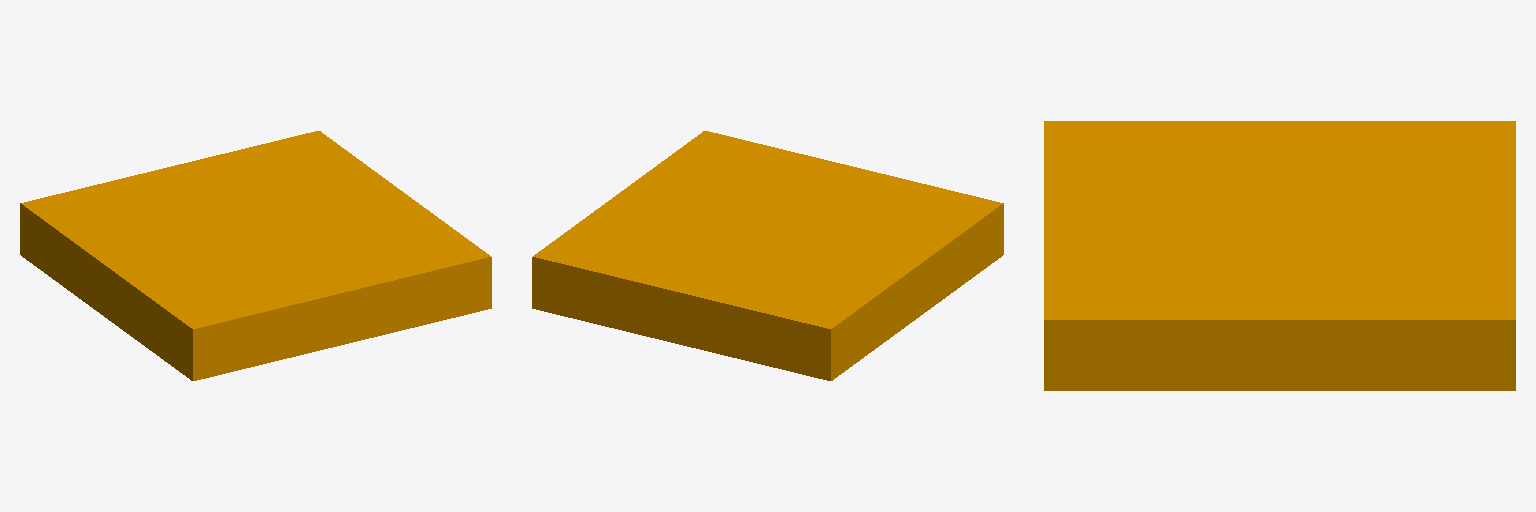
The robot description file, URDF, robot "artag2":
<robot name="artag2">
  <link name="artag2_link">
    <inertial>
      <origin xyz="0 0 0" rpy= "0 0 0" />
      <mass value="1.0" />
      <inertia  ixx="0.074166666667" ixy="0.0"  ixz="0.0"  iyy="0.0585416666666667"  iyz="0.0"  izz="0.026041666666667" />
    </inertial>
    <collision>
      <origin xyz="0 0 0"/>
      <geometry>
        <box size="0.2 0.2 0.2" />
      </geometry>
    </collision>

  
    

    <visual>
            <origin rpy="0.0 0 0" xyz="0 0 0"/>
            <geometry>
                <mesh filename="package://artags_opencv_course/meshes/artag2.dae"/>
            </geometry>
            
    </visual>
  </link>
  <gazebo reference="artag2_link">
    <kp>100000.0</kp>
    <kd>100000.0</kd>
    <mu1>0.1</mu1>
    <mu2>0.1</mu2>
    <fdirl>1 0 0</fdirl>
  </gazebo>
</robot>
 

--- Facts derived from the render (not from the file) ---
Views: 3 orthographic renders of the robot side by side, from view 1: azimuth 30°, elevation 25°; view 2: azimuth 150°, elevation 25°; view 3: azimuth 270°, elevation 25°.
Model artag2 with 1 links and 0 joints (none), rooted at artag2_link, posed all joints at 0.
Links seen in each view (by area): view 1: artag2_link; view 2: artag2_link; view 3: artag2_link.
Boxes of the visible links, bbox=[...] form: artag2_link: bbox=[20, 131, 491, 380]; artag2_link: bbox=[532, 131, 1003, 380]; artag2_link: bbox=[1044, 121, 1515, 390].
Bounding box of the posed robot: 0.06 × 0.06 × 0.01 m (x, y, z).
1 mesh visuals loaded from 1 distinct referenced files (1 Collada DAE).